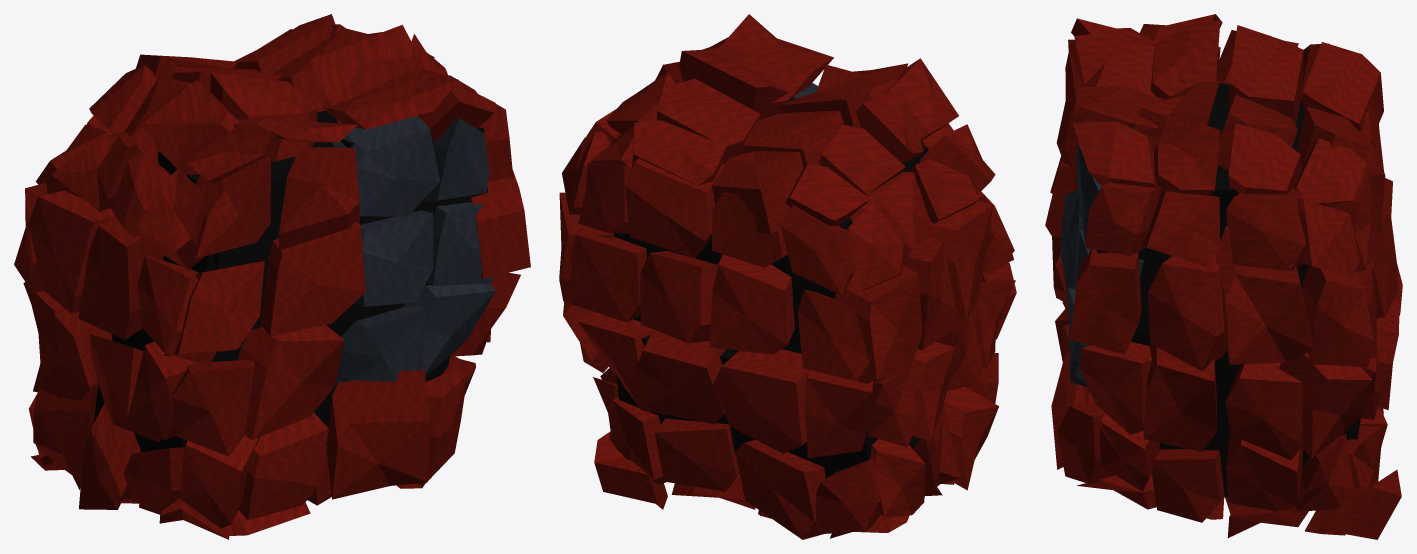
The model's file is emberite_ore.glb.
3 views of the same model, side by side, from view 1: azimuth 30°, elevation 25°; view 2: azimuth 150°, elevation 25°; view 3: azimuth 270°, elevation 25° (orthographic). The views are drawn at different scales.
Visible parts, largest first — view 1: Rust orange iron oxide crust, Fresh silvery cleavage, Deep mineral clefts; view 2: Rust orange iron oxide crust, Deep mineral clefts; view 3: Rust orange iron oxide crust, Deep mineral clefts, Fresh silvery cleavage.
Part boxes in pixels (x1,y1,x2,y2): Rust orange iron oxide crust: (14, 14, 530, 539); Fresh silvery cleavage: (331, 116, 495, 386); Deep mineral clefts: (93, 110, 487, 451); Rust orange iron oxide crust: (559, 14, 1016, 539); Deep mineral clefts: (613, 112, 929, 477); Rust orange iron oxide crust: (1045, 14, 1402, 539); Deep mineral clefts: (1097, 62, 1360, 497); Fresh silvery cleavage: (1060, 121, 1143, 386).
Size of the model in its own units: 0.3179 by 0.3316 by 0.2381.
Materials: 3 (3 with a texture image).
